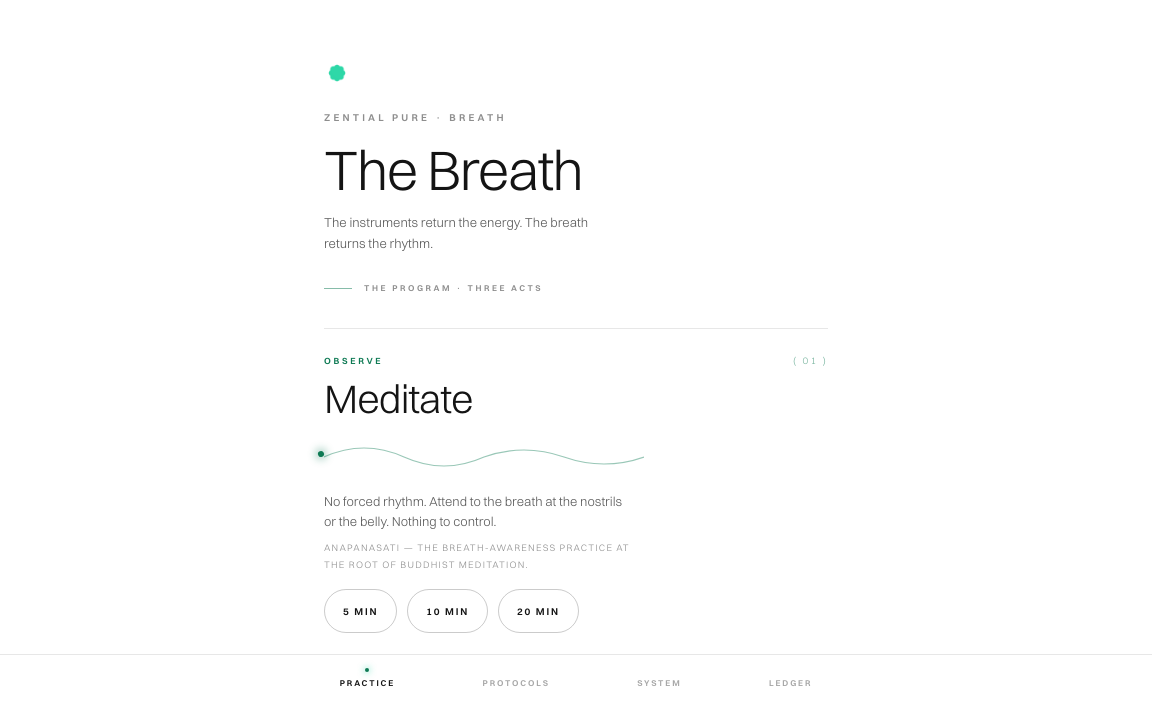
Test: Breath › nav to Ledger shows the empty-state line
What coordinates should you click on to do the following:
click the button "LEDGER"
I would click on:
 (791, 684)
Its box is x1=761 y1=661 x2=820 y2=706.
Wait 700 ms
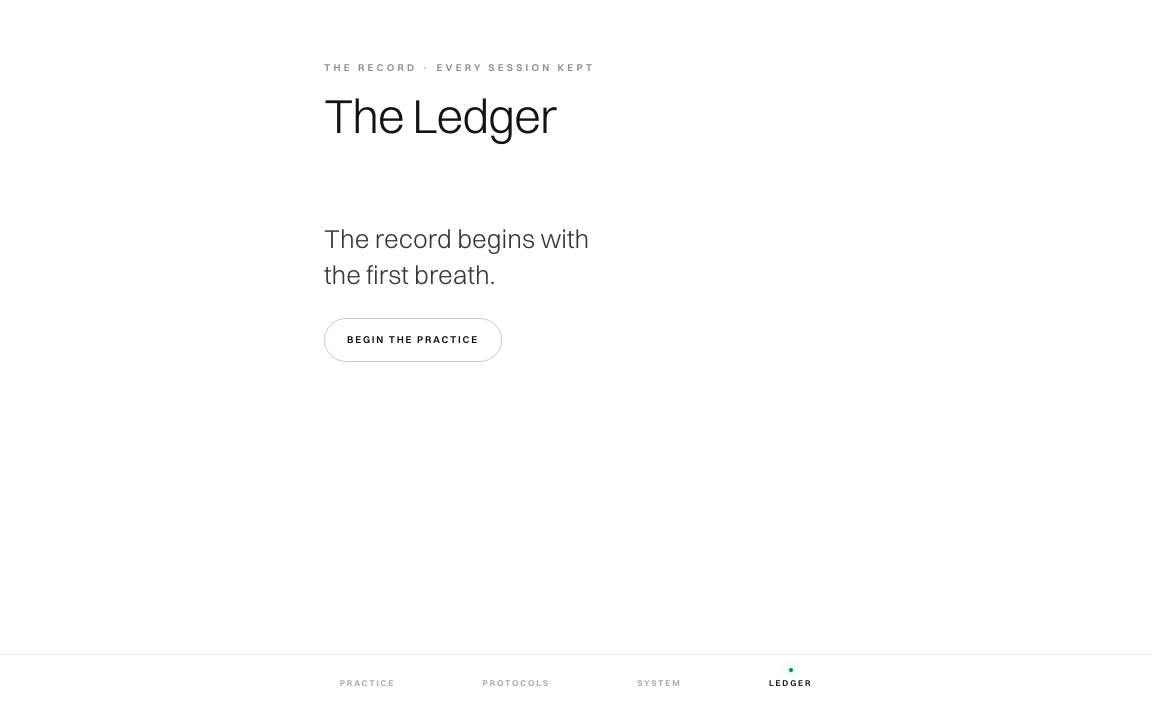
Expected: the text "The record begins with the first breath." is shown, x1=324 y1=221 x2=604 y2=294
